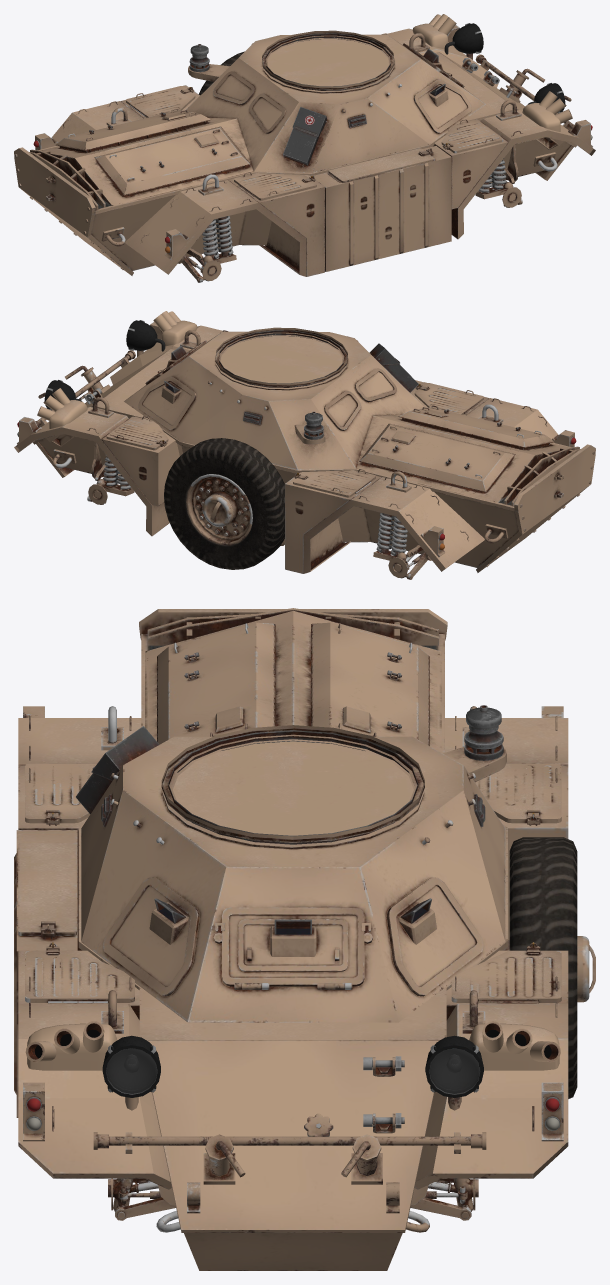
Rendered from Body.gltf.
3 renders of one model, top to bottom at view 1: azimuth 30°, elevation 25°; view 2: azimuth 150°, elevation 25°; view 3: azimuth 270°, elevation 25°, orthographic. The views are drawn at different scales.
Parts seen in each view (by area): view 1: sm_mitlere_sektion_low, sm_munitionskiste_seite_1_low, sm_schutzklappe_links_hinten_low, sm_hinten_klappen_luke_links_low, sm_untere_sektion_haupt_low, sm_untere_sektion_r_platte_low, sm_seiten_schutz_zirde_1_low, sm_schutzklappe_links_vorne_low, sm_hinten_klappen_luke_rechts_low, sm_untere_sektion_o_platte_low, sm_seiten_schutz_zirde_2_low, sm_achsen_federung_vl_low (+26 smaller); view 2: sm_mitlere_sektion_low, sm_ersatzrad_seite_1_low, sm_schutzklappe_rechts_hinten_low, sm_hinten_klappen_luke_rechts_low, sm_untere_sektion_haupt_low, sm_untere_sektion_r_platte_low, sm_seiten_schutz_zirde_4_low, sm_schutzklappe_rechts_vorne_low, sm_hinten_klappen_luke_links_low, sm_seiten_schutz_zirde_3_low, sm_ersatzrad_seite_2_low, sm_untere_sektion_o_platte_low (+24 smaller); view 3: sm_mitlere_sektion_low, sm_untere_sektion_v_platte_low, sm_schutzklappe_rechts_vorne_low, sm_schutzklappe_links_vorne_low, sm_hinten_klappen_luke_links_low, sm_hinten_klappen_luke_rechts_low, sm_untere_sektion_o_platte_low, sm_ersatzrad_seite_1_low, sm_untere_sektion_f_platte_low, sm_vor_luke_schraeg_links_1_low, sm_vor_luke_schraeg_rechts_1_low, sm_vor_luke_schraeg_mitte_1_low (+35 smaller).
Part boxes in pixels (x1=…): sm_mitlere_sektion_low: x1=40, y1=34, x2=485, y2=206; sm_munitionskiste_seite_1_low: x1=313, y1=146, x2=451, y2=271; sm_schutzklappe_links_hinten_low: x1=125, y1=180, x2=306, y2=276; sm_hinten_klappen_luke_links_low: x1=94, y1=126, x2=250, y2=195; sm_untere_sektion_haupt_low: x1=91, y1=121, x2=570, y2=270; sm_untere_sektion_r_platte_low: x1=14, y1=147, x2=133, y2=275; sm_seiten_schutz_zirde_1_low: x1=228, y1=175, x2=324, y2=276; sm_schutzklappe_links_vorne_low: x1=451, y1=110, x2=595, y2=239; sm_hinten_klappen_luke_rechts_low: x1=55, y1=110, x2=211, y2=152; sm_untere_sektion_o_platte_low: x1=38, y1=52, x2=512, y2=214; sm_seiten_schutz_zirde_2_low: x1=433, y1=119, x2=508, y2=209; sm_achsen_federung_vl_low: x1=178, y1=216, x2=236, y2=282; sm_mitlere_sektion_low: x1=124, y1=331, x2=569, y2=503; sm_ersatzrad_seite_1_low: x1=164, y1=438, x2=284, y2=569; sm_schutzklappe_rechts_hinten_low: x1=303, y1=477, x2=484, y2=573; sm_hinten_klappen_luke_rechts_low: x1=359, y1=423, x2=515, y2=492; sm_untere_sektion_haupt_low: x1=39, y1=418, x2=518, y2=567; sm_untere_sektion_r_platte_low: x1=476, y1=444, x2=595, y2=572; sm_seiten_schutz_zirde_4_low: x1=285, y1=472, x2=381, y2=573; sm_schutzklappe_rechts_vorne_low: x1=14, y1=407, x2=169, y2=536; sm_hinten_klappen_luke_links_low: x1=398, y1=407, x2=554, y2=449; sm_seiten_schutz_zirde_3_low: x1=101, y1=416, x2=179, y2=506; sm_ersatzrad_seite_2_low: x1=186, y1=474, x2=252, y2=545; sm_untere_sektion_o_platte_low: x1=97, y1=349, x2=571, y2=511; sm_mitlere_sektion_low: x1=81, y1=610, x2=505, y2=1022; sm_untere_sektion_v_platte_low: x1=147, y1=1040, x2=439, y2=1232; sm_schutzklappe_rechts_vorne_low: x1=414, y1=1003, x2=568, y2=1189; sm_schutzklappe_links_vorne_low: x1=18, y1=1003, x2=171, y2=1189; sm_hinten_klappen_luke_links_low: x1=157, y1=622, x2=275, y2=744; sm_hinten_klappen_luke_rechts_low: x1=311, y1=622, x2=429, y2=745; sm_untere_sektion_o_platte_low: x1=78, y1=634, x2=507, y2=1040; sm_ersatzrad_seite_1_low: x1=509, y1=837, x2=577, y2=1098; sm_untere_sektion_f_platte_low: x1=184, y1=1233, x2=402, y2=1270; sm_vor_luke_schraeg_links_1_low: x1=386, y1=877, x2=483, y2=996; sm_vor_luke_schraeg_rechts_1_low: x1=102, y1=877, x2=199, y2=996; sm_vor_luke_schraeg_mitte_1_low: x1=222, y1=907, x2=364, y2=986.
Bounding box in the file's own units: 3.8 × 1.14 × 1.9.
